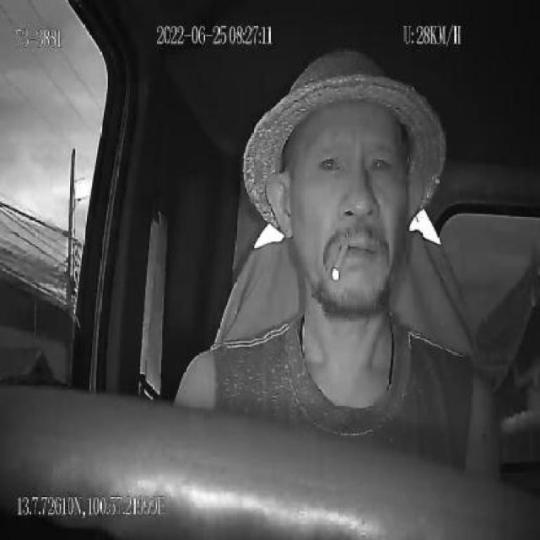smoking: (330, 244, 350, 282)
